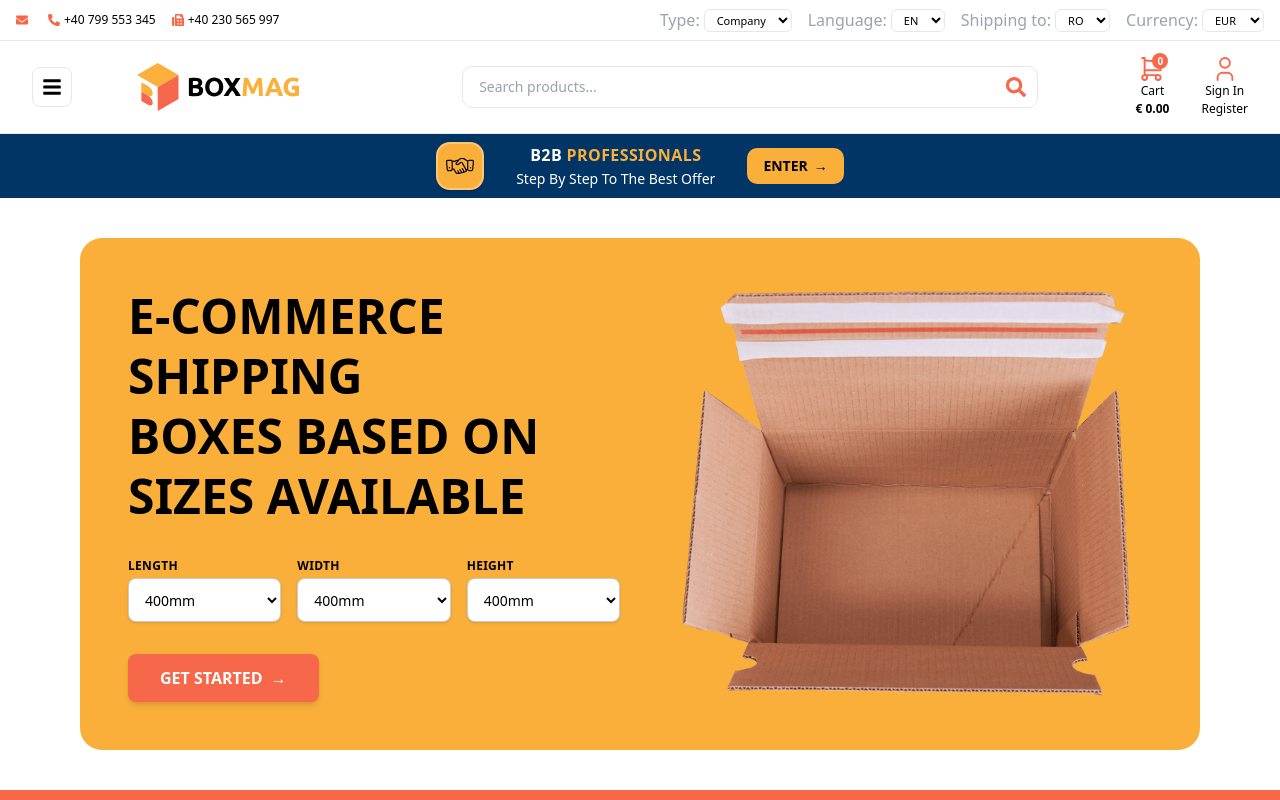
Test: Home page – CTA links › leagă CTA-urile la /shop, /business și /contact
The width and height of the screenshot is (1280, 800).
Click the button named "Open shop menu".
click(52, 87)  # box [32,67,72,107]
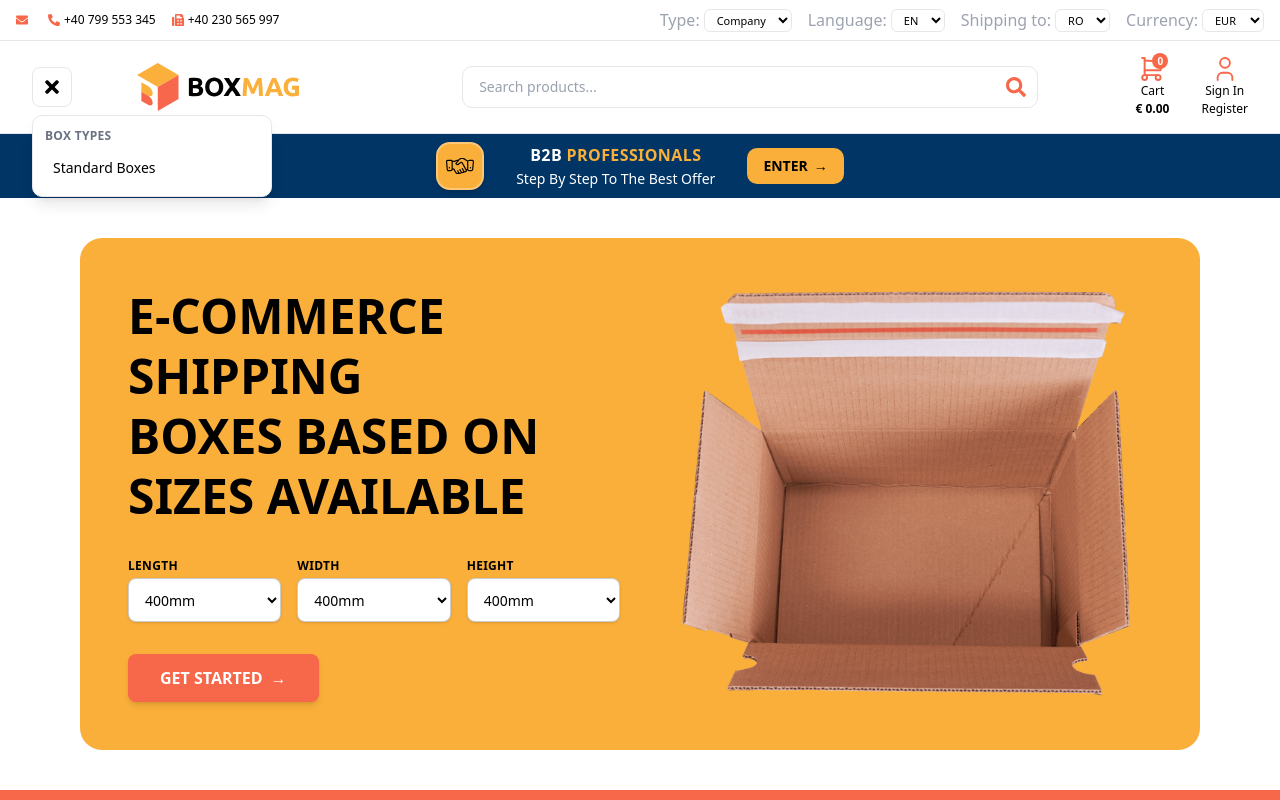
Expected: the link to "/business" is shown, [747,148,843,184]
Expected: the number of links is at least 1, [53,158,156,177]
